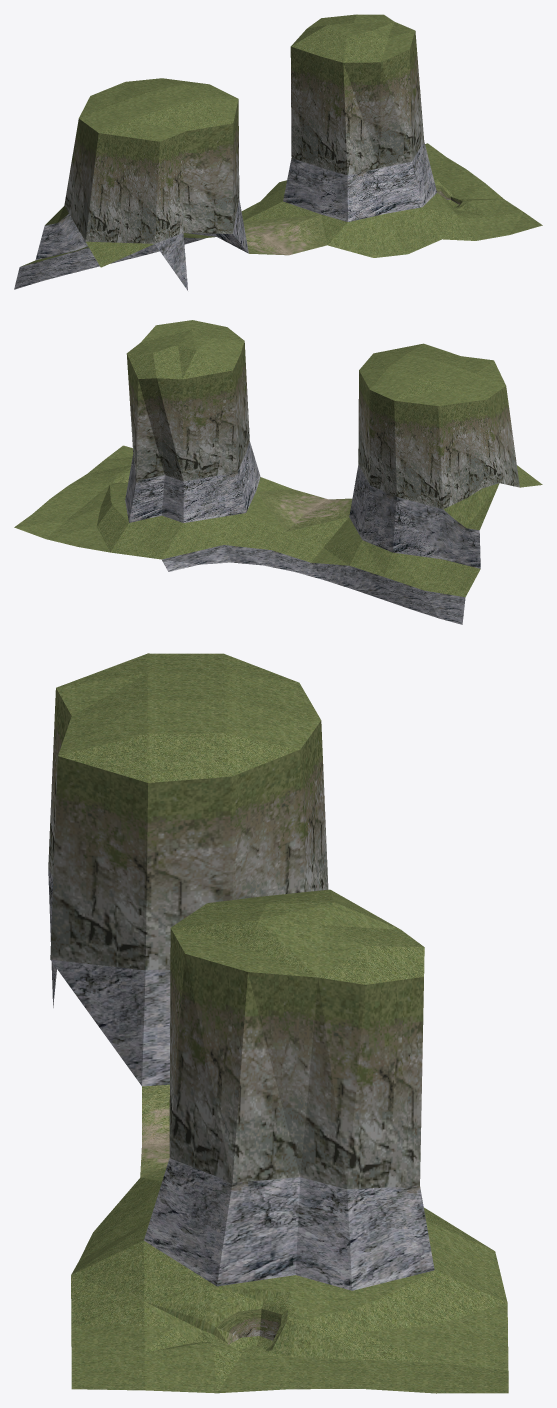
File: cen_bit_21.obj
3 views of the same model, one above another, from view 1: azimuth 30°, elevation 25°; view 2: azimuth 150°, elevation 25°; view 3: azimuth 270°, elevation 25° (orthographic). The views are drawn at different scales.
Parts seen in each view (by area): view 1: cen_bit_21; view 2: cen_bit_21; view 3: cen_bit_21.
Part boxes in pixels (bbox=[...]): cen_bit_21: bbox=[14, 14, 542, 290]; cen_bit_21: bbox=[14, 320, 542, 624]; cen_bit_21: bbox=[48, 653, 508, 1393].
Bounding box in the file's own units: 235 × 106 × 112.
Materials: 6 (6 with a texture image).
